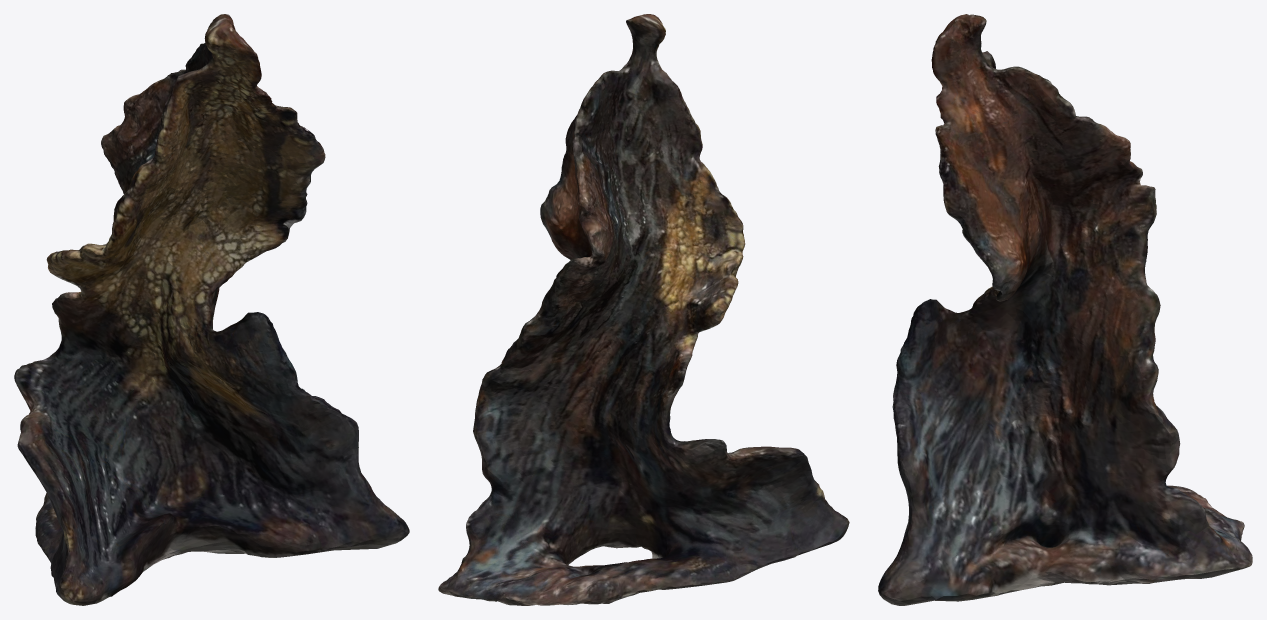
Rendered from center_sculpture.glb.
3 views of the same model, side by side, from view 1: azimuth 30°, elevation 25°; view 2: azimuth 150°, elevation 25°; view 3: azimuth 270°, elevation 25° (orthographic). The views are drawn at different scales.
Size of the model in its own units: 0.4343 by 0.6719 by 0.4258.
1 material, 1 textured.
